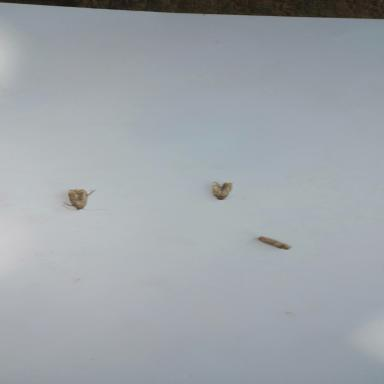pbw: (60, 186, 92, 212), (201, 179, 235, 203), (255, 234, 293, 250)
